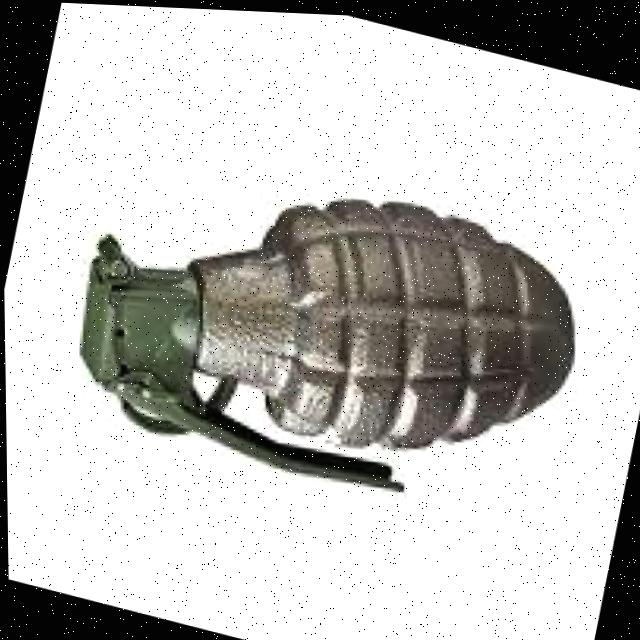grenade: (12, 67, 640, 597)
